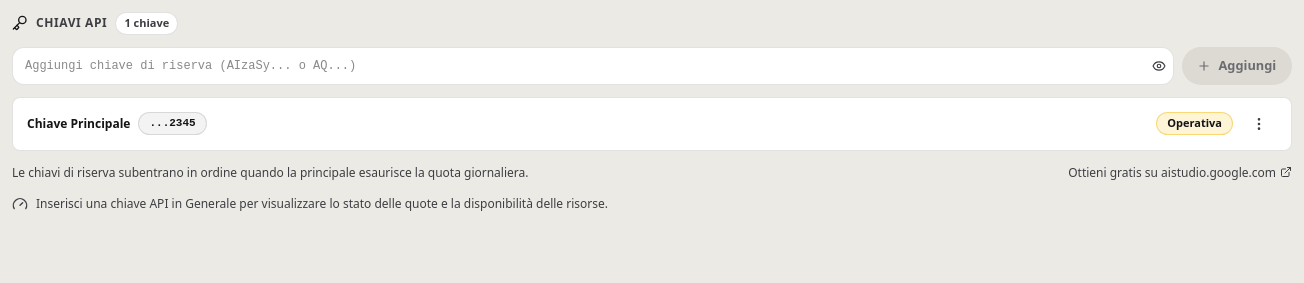
ApiKeySection component › shows error if the key matches the primary key
Type "AIzaSyPrimary0123456789012345" into the password field named "Nuova chiave di riserva" at (593, 66), box top-left (12, 46), bottom-right (1174, 84)
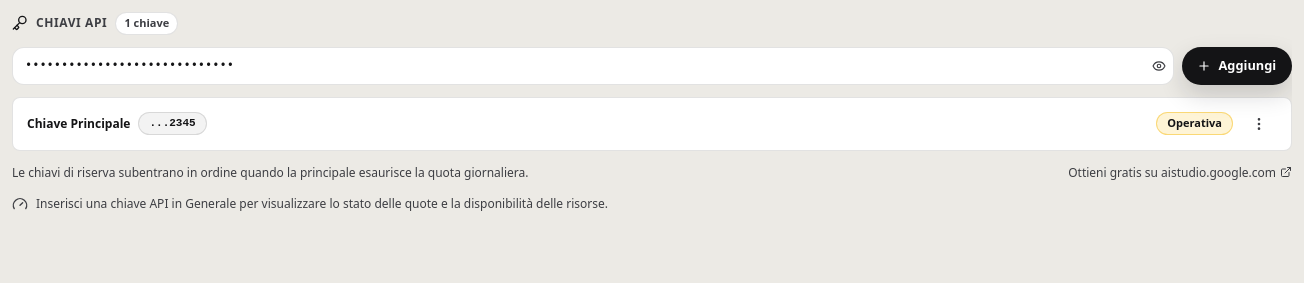
Press Enter in the password field named "Nuova chiave di riserva", box top-left (12, 46), bottom-right (1174, 84)
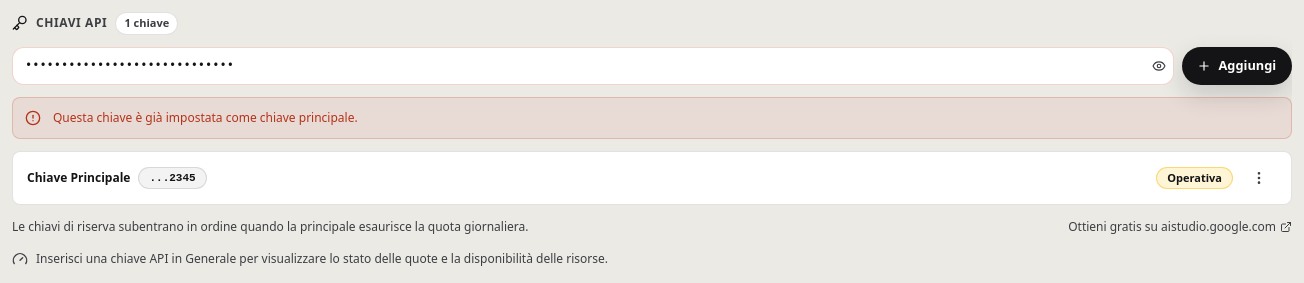
expect the text "Questa chiave è già impostata come chiave principale." is shown: met, box top-left (53, 110), bottom-right (358, 126)
